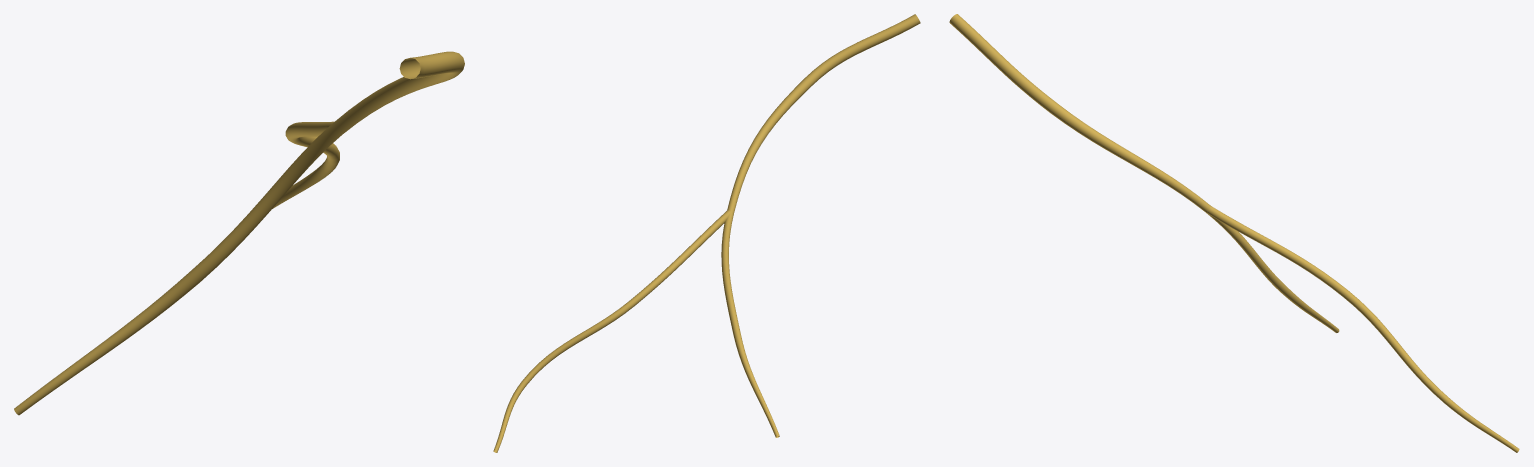
3 views of the same model, side by side, from view 1: azimuth 30°, elevation 25°; view 2: azimuth 150°, elevation 25°; view 3: azimuth 270°, elevation 25° (orthographic). The views are drawn at different scales.
Parts seen in each view (by area): view 1: 左侧胸内侧神经; view 2: 左侧胸内侧神经; view 3: 左侧胸内侧神经.
Part boxes in pixels (x1=…): 左侧胸内侧神经: x1=14, y1=51, x2=464, y2=415; 左侧胸内侧神经: x1=493, y1=14, x2=920, y2=452; 左侧胸内侧神经: x1=949, y1=14, x2=1519, y2=452.
Size of the model in its own units: 0.0671 by 0.0909 by 0.1373.
